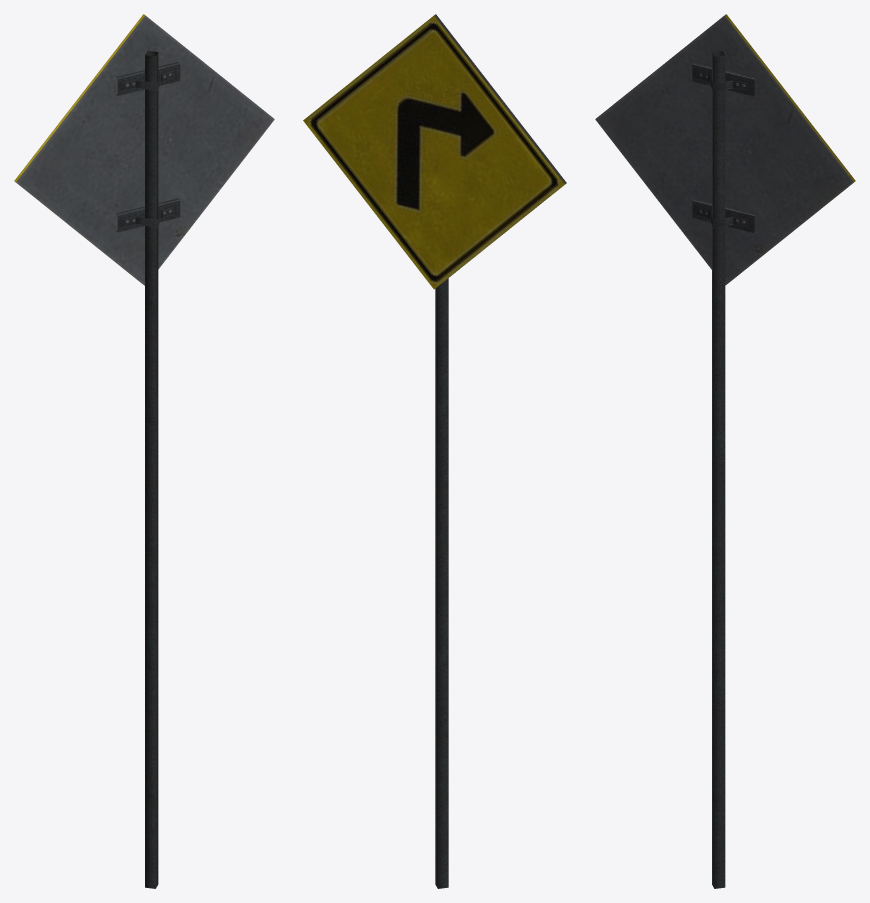
Rendered from Turn_Right_Arrow.glb.
The picture shows the model from 3 angles, left to right: view 1: azimuth 30°, elevation 25°; view 2: azimuth 150°, elevation 25°; view 3: azimuth 330°, elevation 25°; orthographic projection.
Visible parts, largest first — view 1: Turn_Right_Arrow__LOD1; view 2: Turn_Right_Arrow__LOD1; view 3: Turn_Right_Arrow__LOD1.
Boxes of the visible parts, x1=… form: Turn_Right_Arrow__LOD1: x1=14, y1=14, x2=274, y2=888; Turn_Right_Arrow__LOD1: x1=303, y1=14, x2=566, y2=888; Turn_Right_Arrow__LOD1: x1=595, y1=14, x2=855, y2=888.
Size of the model in its own units: 0.9743 by 3.11 by 0.0893.
Materials: 1 (1 with a texture image).
